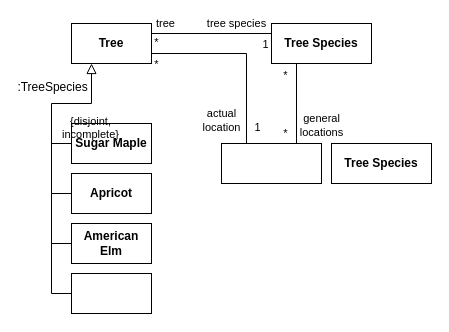
This 449x332 diagram has some shape labels left out. Here are the shapes that lost their labels. From the top down, the box of each, then its label:
(220, 142, 322, 184): Geographic Location
(70, 272, 152, 314): Saguaro
